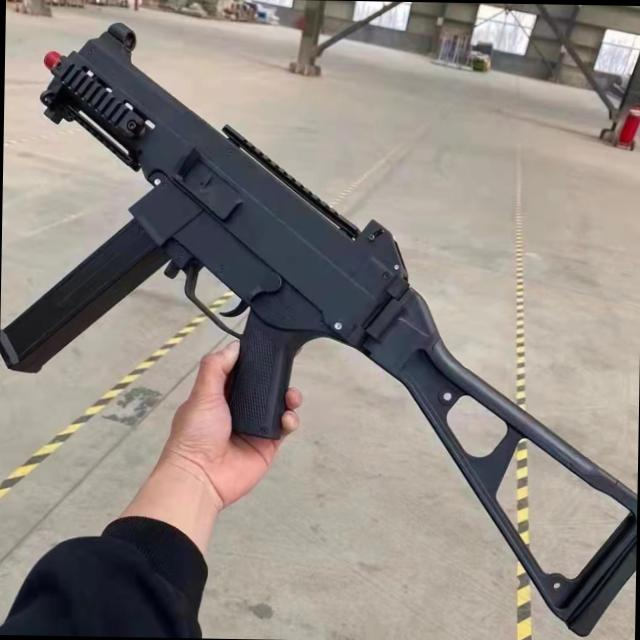Gun: (17, 22, 594, 590)
